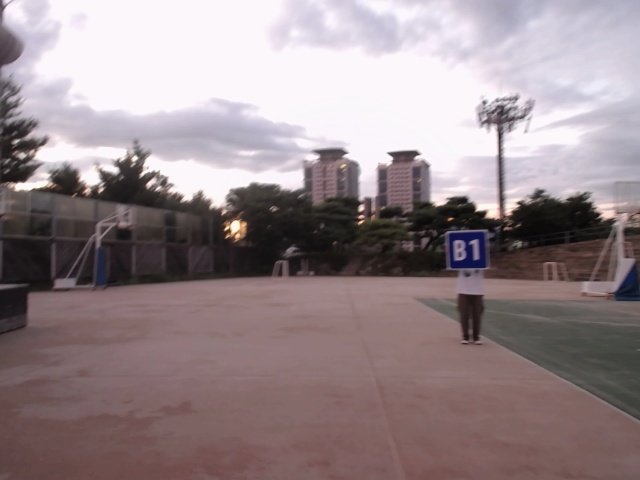delivery_b1: (446, 231, 488, 269)
